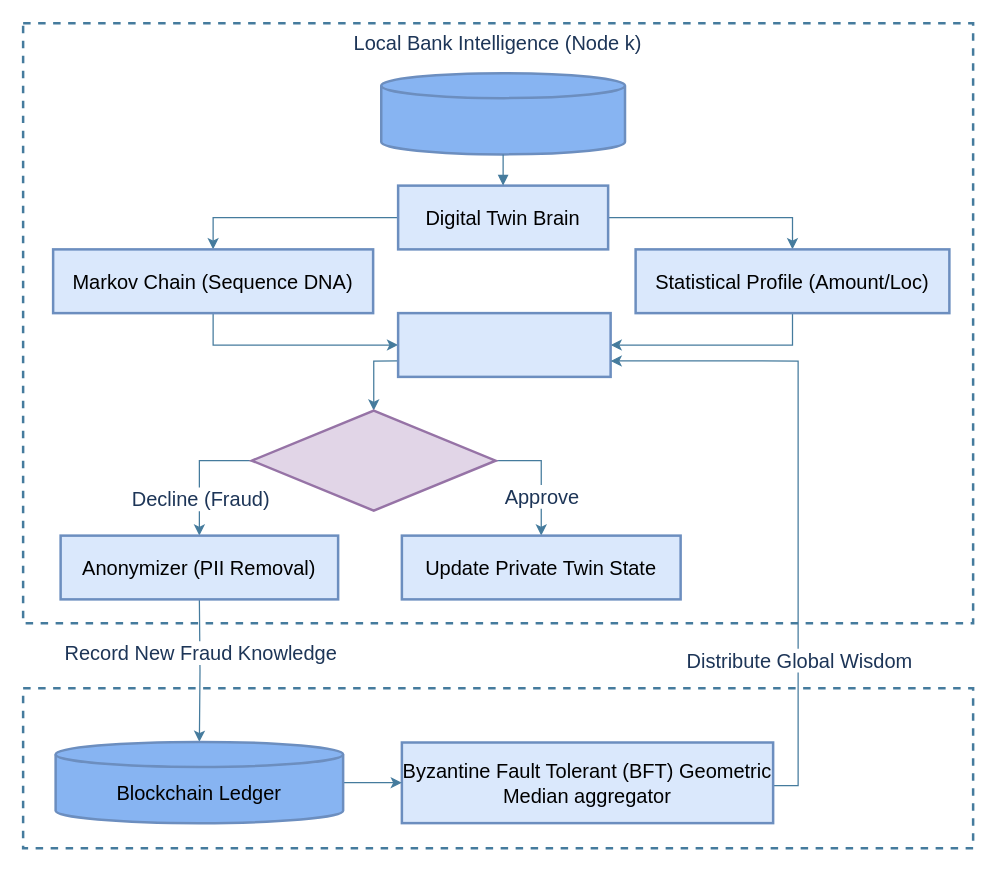
This 995x870 diagram has some shape labels left out. Each missing label, with the box of its shape:
Federated Intelligence Ledger: (21, 686, 974, 849)
Fraud Engine: (396, 311, 611, 378)
Risk Scoring: (250, 409, 496, 511)
Transaction Stream: (379, 71, 626, 155)
